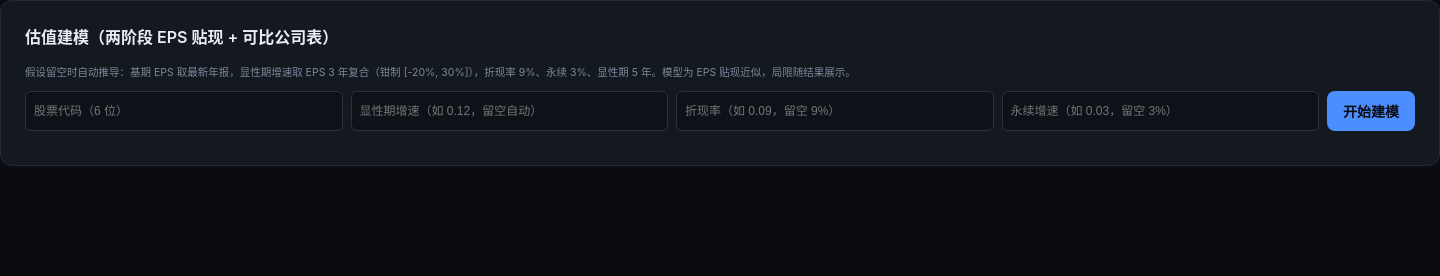
Test: ValuationPanel —— 表单与入参校验 › 代码为空时提交被拦截并提示「请输入 6 位股票代码」，不发请求
Click the button "开始建模". click: (1371, 111)
box: left=1327, top=91, right=1415, bottom=131
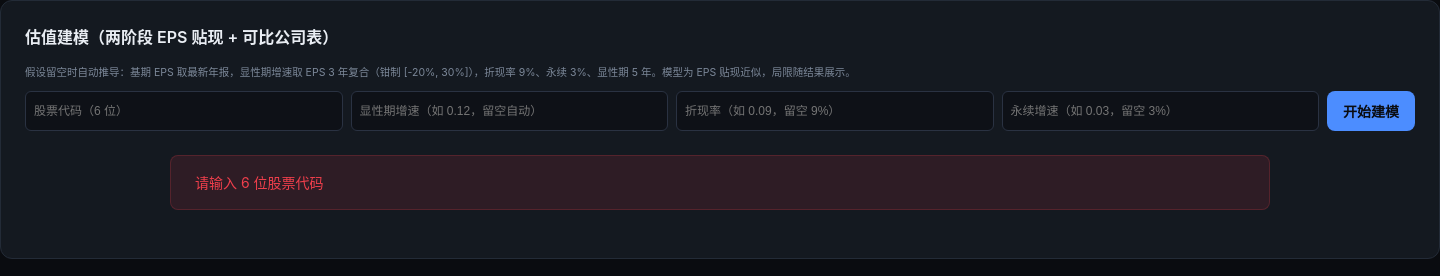
Expected: the text "请输入 6 位股票代码" is shown, left=170, top=155, right=1270, bottom=210
